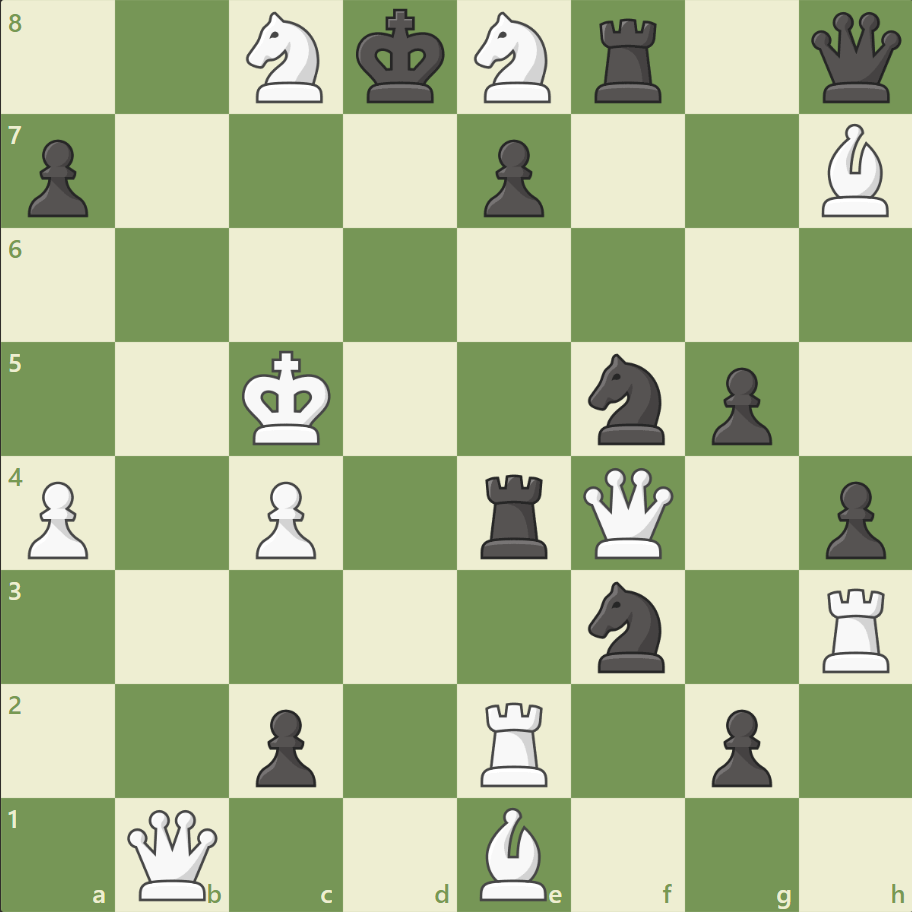B: (471, 801, 555, 904), (812, 120, 896, 222)
K: (238, 344, 338, 452)
N: (238, 7, 335, 110), (465, 7, 562, 110)
P: (20, 473, 95, 564), (247, 473, 322, 564)
Q: (578, 463, 677, 562), (124, 804, 223, 903)
R: (814, 579, 897, 676), (473, 693, 556, 790)
k: (351, 4, 451, 112)
n: (579, 348, 676, 450), (579, 575, 676, 677)
p: (20, 132, 95, 223), (474, 132, 549, 223), (701, 359, 776, 450), (247, 700, 322, 791), (701, 700, 776, 791), (815, 473, 889, 564)
q: (805, 9, 904, 108)
r: (587, 12, 670, 109), (473, 466, 556, 563)
